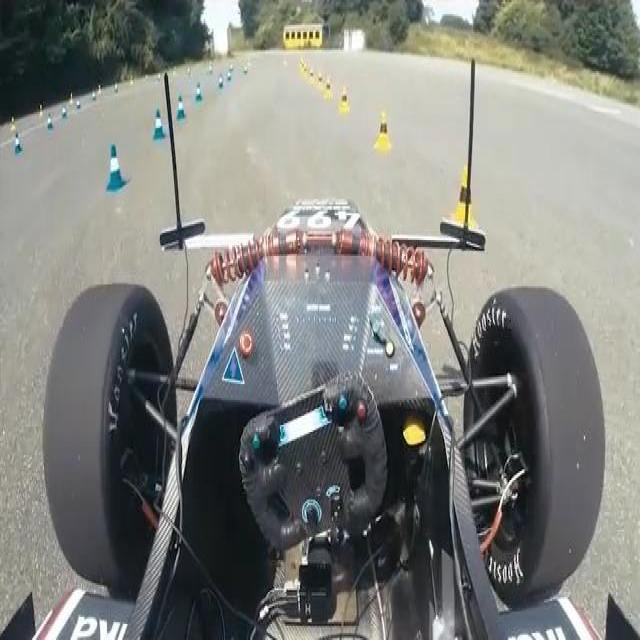blue_cone: (104, 140, 129, 192), (150, 105, 165, 139), (175, 94, 186, 121), (13, 133, 22, 156), (194, 80, 203, 101)
yellow_cone: (450, 167, 479, 236), (372, 109, 391, 153), (339, 87, 350, 114), (324, 78, 333, 99)
